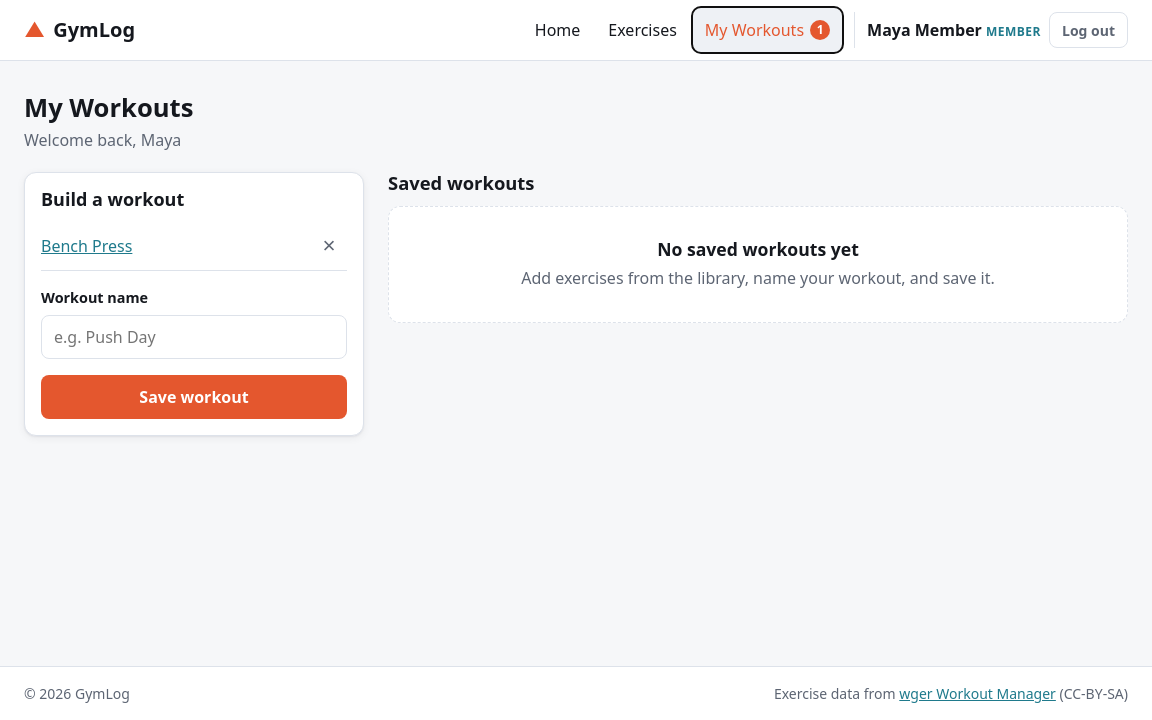
Workouts end to end › saves a workout and logs a session with sets, reps and weight
The image size is (1152, 720).
Earlier steps of the test are not shown.
Type "Push Day" into the field labelled "Workout name" at (194, 337), box [41,315,347,359]
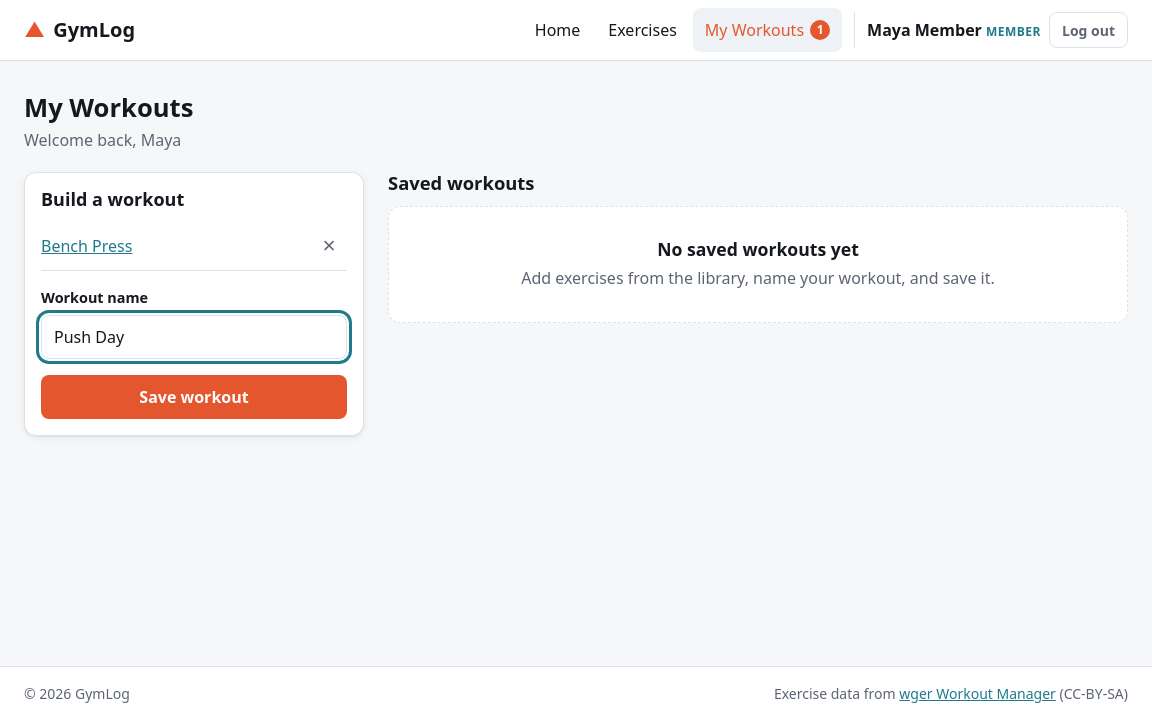
Click the button "Save workout" at (194, 397), box [41,375,347,419]
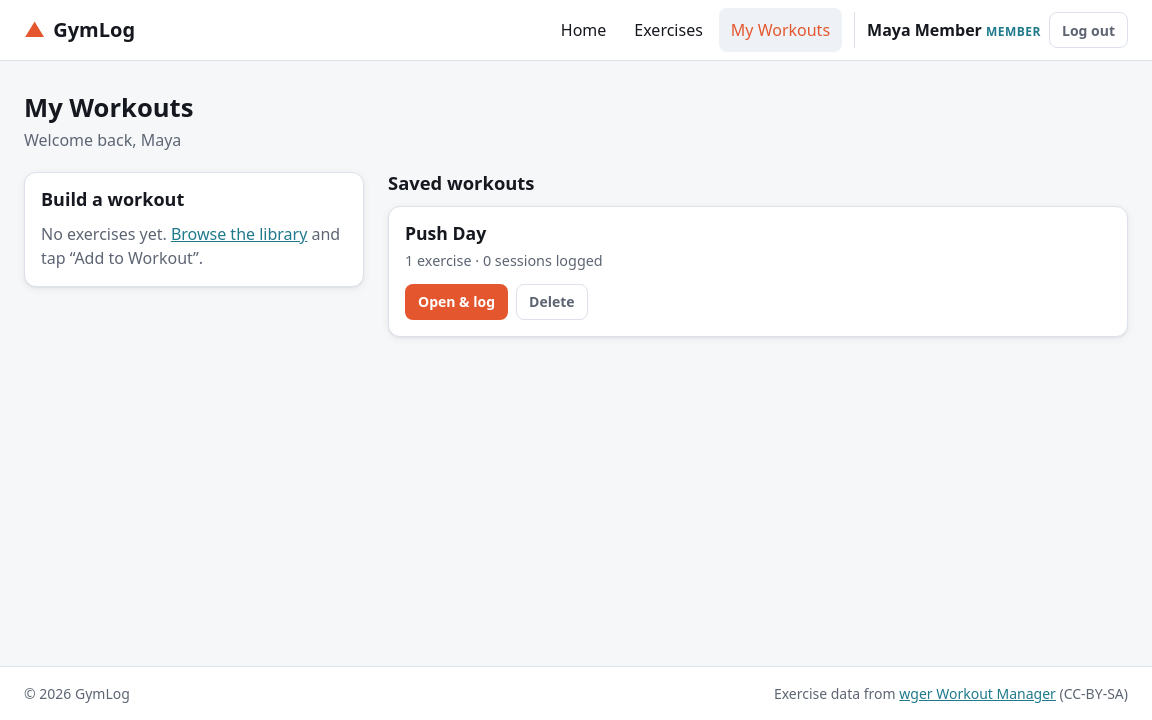
Click the link "Open & log" at (457, 302), box [405,284,508,320]
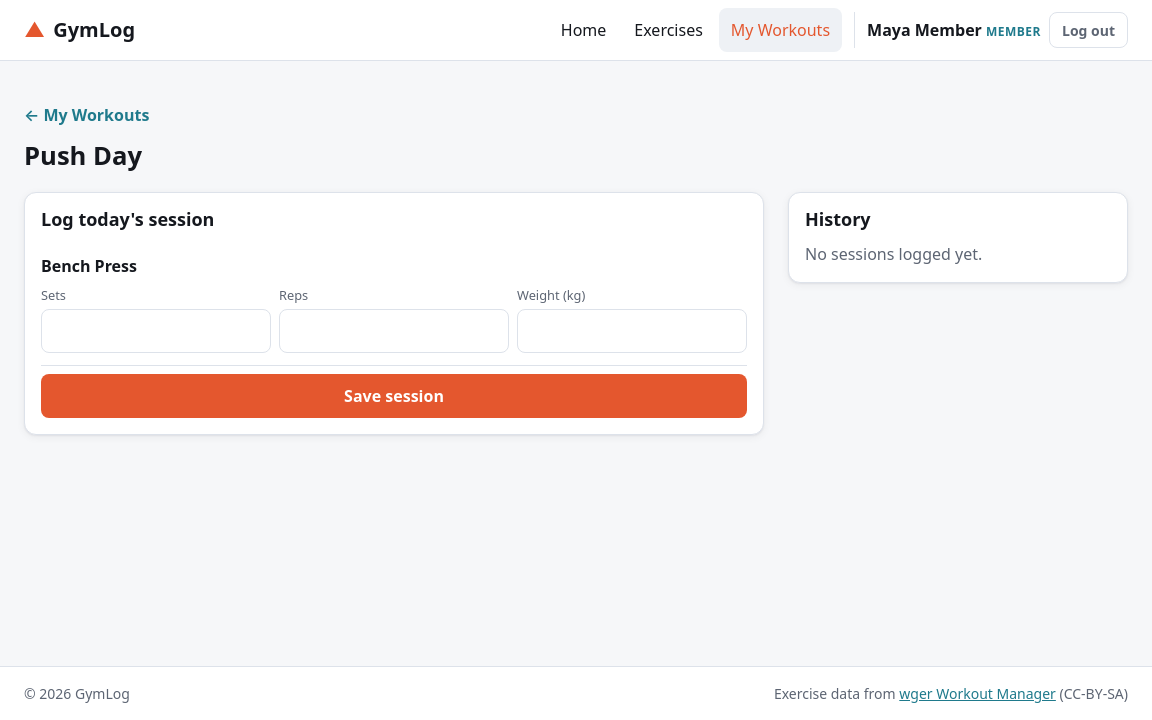
Now the heading "Push Day" is shown, box [24,141,142,172]
Type "3" into the number field named "Bench Press Sets" at (156, 332), box [41,310,271,354]
Type "8" into the number field named "Bench Press Reps" at (394, 332), box [279,310,509,354]
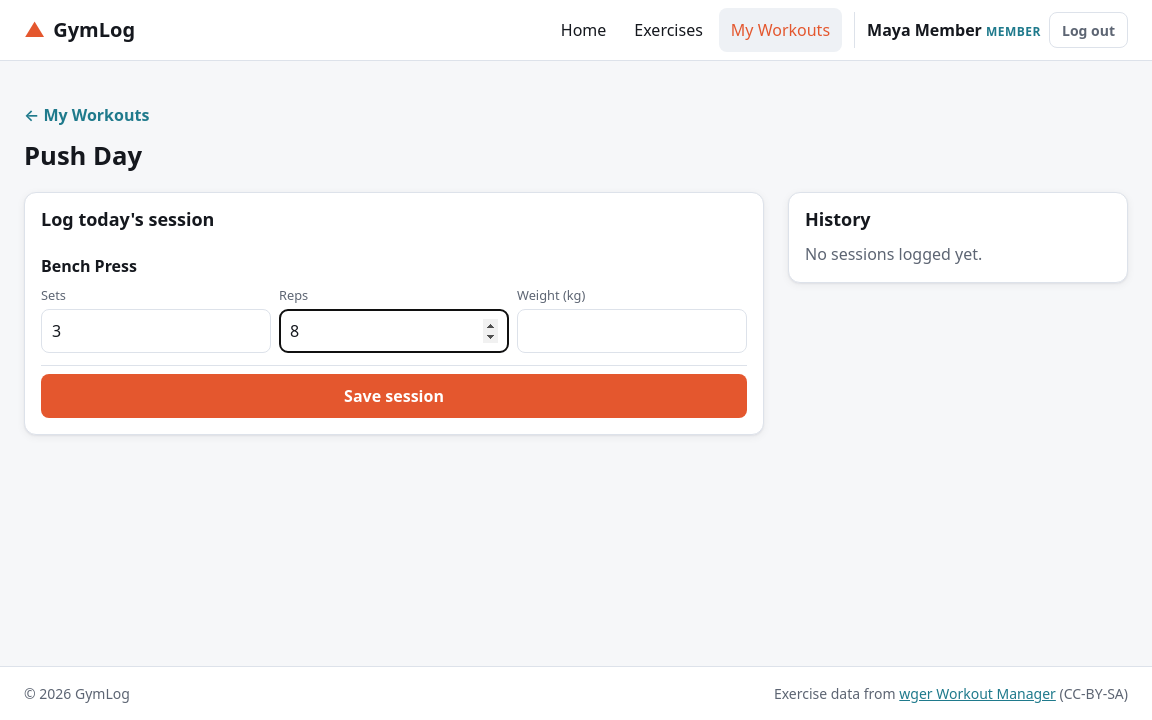
Type "60" into the number field named "Bench Press Weight (kg)" at (632, 332), box [517,310,747,354]
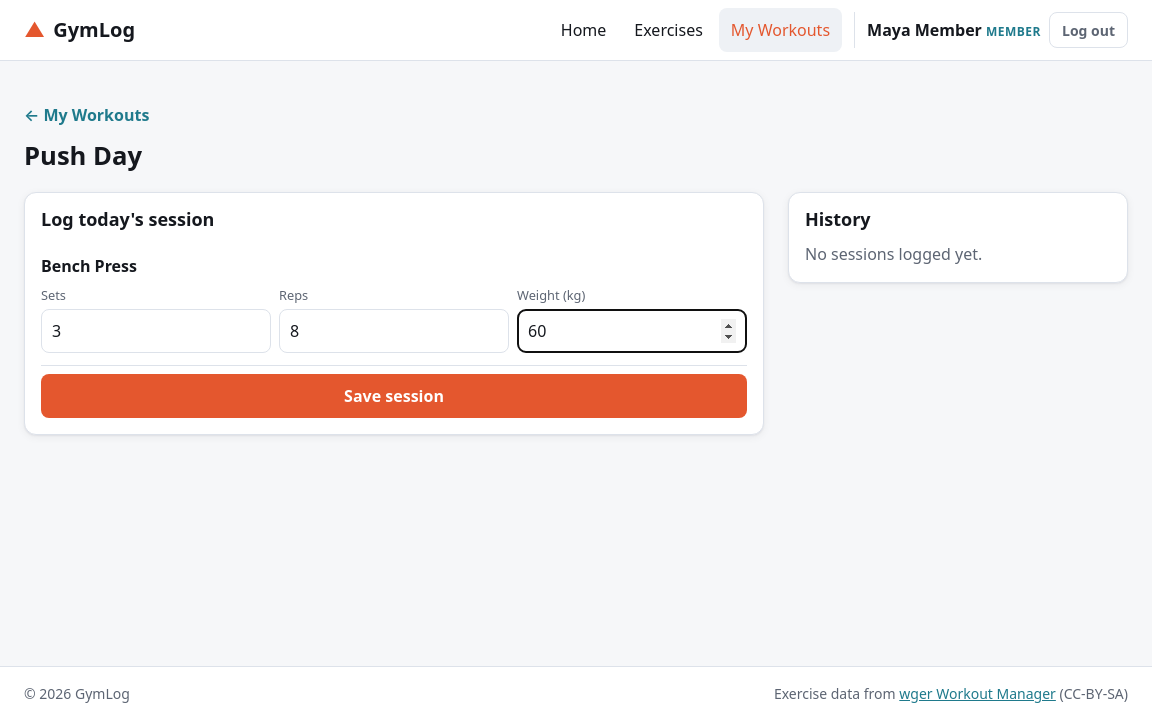
Click the button "Save session" at (394, 396), box [41,374,747,418]
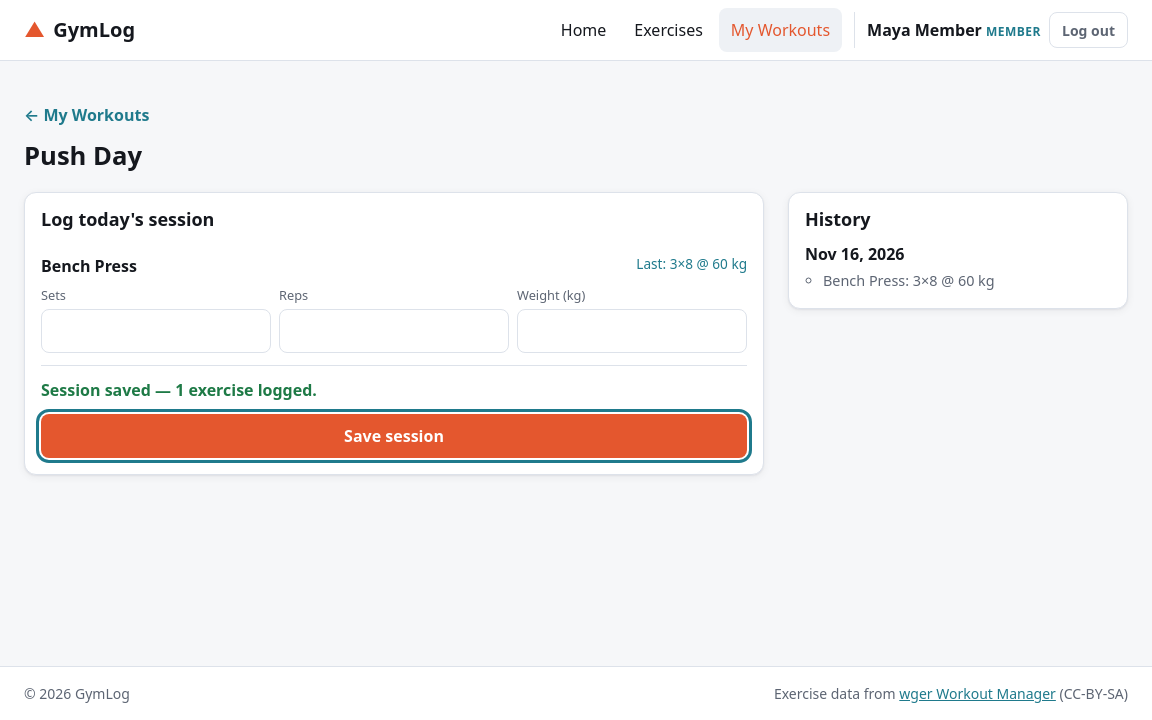
Now the message reads "Session saved — 1 exercise logged.", box [41,380,317,402]
Now the list item "Bench Press: 3×8 @ 60 kg" is shown, box [823,271,995,290]
Now the text "Last: 3×8 @ 60 kg" is shown, box [636,254,747,278]
